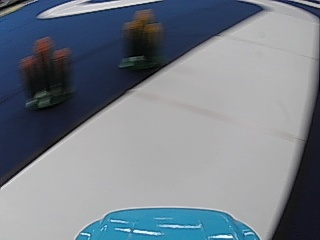corn: (20, 34, 69, 112), (119, 9, 160, 72)
